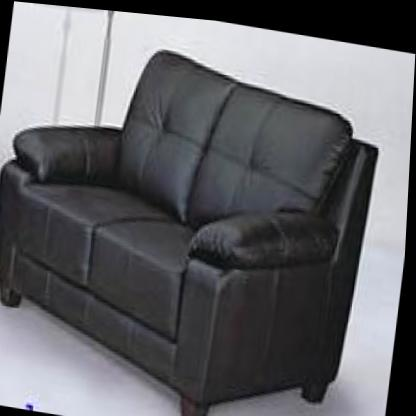Sofa: (0, 23, 388, 416)
